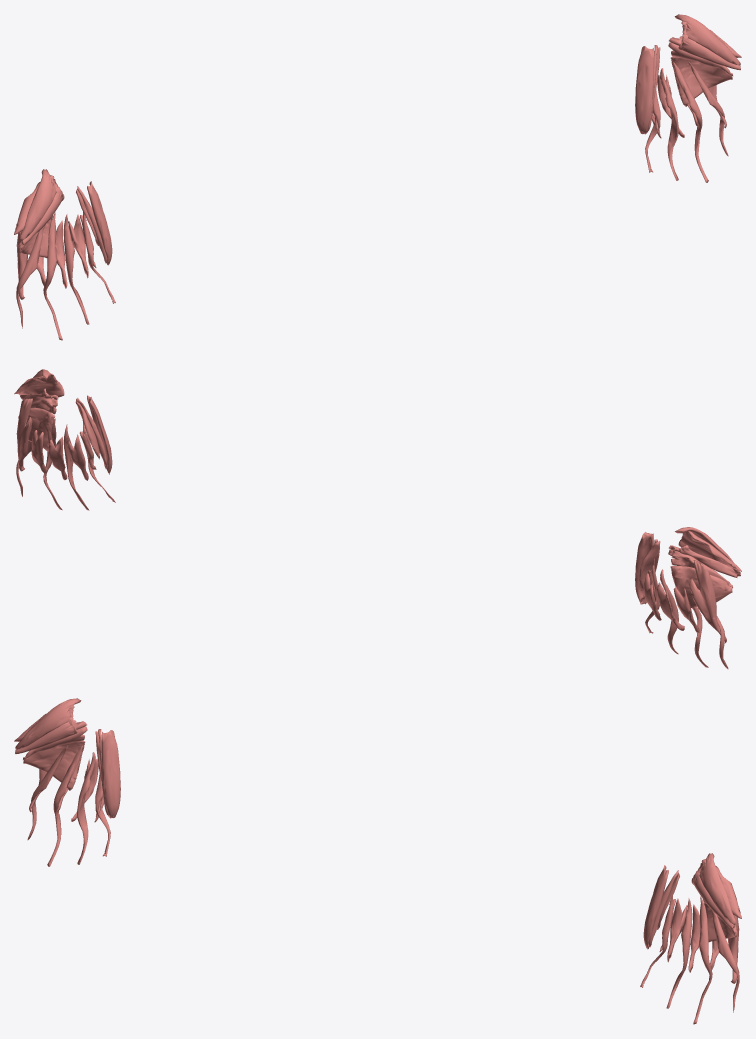
Rendered from z-anatomy-hand-muscles.glb.
The picture shows the model from 3 angles, top to bottom: view 1: azimuth 30°, elevation 25°; view 2: azimuth 150°, elevation 25°; view 3: azimuth 330°, elevation 25°; orthographic projection.
Parts seen in each view (by area): view 1: hand-muscles-lumbrical-muscles-of-hand-right__Lumbrical musc, hand-muscles-lumbrical-muscles-of-hand-left__Lumbrical muscl, hand-muscles-dorsal-interossei-muscles-of-hand-right__Dorsal, hand-muscles-abductor-digiti-minimi-of-hand-left__Abductor d, hand-muscles-transverse-head-of-adductor-pollicis-left__Tran, hand-muscles-abductor-pollicis-brevis-left__Abductor pollici, hand-muscles-abductor-pollicis-brevis-right__Abductor pollic, hand-muscles-abductor-digiti-minimi-of-hand-right__Abductor , hand-muscles-superficial-head-of-flexor-pollicis-brevis-left, hand-muscles-dorsal-interossei-muscles-of-hand-left__Dorsal ; view 2: hand-muscles-dorsal-interossei-muscles-of-hand-right__Dorsal, hand-muscles-dorsal-interossei-muscles-of-hand-left__Dorsal , hand-muscles-lumbrical-muscles-of-hand-right__Lumbrical musc, hand-muscles-lumbrical-muscles-of-hand-left__Lumbrical muscl, hand-muscles-transverse-head-of-adductor-pollicis-right__Tra, hand-muscles-deep-head-of-flexor-pollicis-brevis-right__Deep, hand-muscles-transverse-head-of-adductor-pollicis-left__Tran, hand-muscles-deep-head-of-flexor-pollicis-brevis-left__Deep , hand-muscles-abductor-digiti-minimi-of-hand-right__Abductor , hand-muscles-opponens-pollicis-muscle-right__Opponens pollic, hand-muscles-abductor-digiti-minimi-of-hand-left__Abductor d, hand-muscles-opponens-digiti-minimi-muscle-of-hand-right__Op; view 3: hand-muscles-lumbrical-muscles-of-hand-left__Lumbrical muscl, hand-muscles-lumbrical-muscles-of-hand-right__Lumbrical musc, hand-muscles-dorsal-interossei-muscles-of-hand-left__Dorsal , hand-muscles-abductor-digiti-minimi-of-hand-right__Abductor , hand-muscles-transverse-head-of-adductor-pollicis-right__Tra, hand-muscles-abductor-pollicis-brevis-right__Abductor pollic, hand-muscles-abductor-pollicis-brevis-left__Abductor pollici, hand-muscles-abductor-digiti-minimi-of-hand-left__Abductor d, hand-muscles-superficial-head-of-flexor-pollicis-brevis-righ, hand-muscles-dorsal-interossei-muscles-of-hand-right__Dorsal.
Boxes of the visible parts, bbox=[...] form: hand-muscles-lumbrical-muscles-of-hand-right__Lumbrical musc: bbox=[16, 212, 115, 340]; hand-muscles-lumbrical-muscles-of-hand-left__Lumbrical muscl: bbox=[645, 61, 728, 182]; hand-muscles-dorsal-interossei-muscles-of-hand-right__Dorsal: bbox=[16, 214, 88, 299]; hand-muscles-abductor-digiti-minimi-of-hand-left__Abductor d: bbox=[635, 46, 654, 134]; hand-muscles-transverse-head-of-adductor-pollicis-left__Tran: bbox=[670, 56, 732, 106]; hand-muscles-abductor-pollicis-brevis-left__Abductor pollici: bbox=[674, 14, 740, 65]; hand-muscles-abductor-pollicis-brevis-right__Abductor pollic: bbox=[20, 169, 56, 240]; hand-muscles-abductor-digiti-minimi-of-hand-right__Abductor : bbox=[87, 181, 112, 265]; hand-muscles-superficial-head-of-flexor-pollicis-brevis-left: bbox=[681, 38, 740, 70]; hand-muscles-dorsal-interossei-muscles-of-hand-left__Dorsal : bbox=[651, 73, 726, 138]; hand-muscles-dorsal-interossei-muscles-of-hand-right__Dorsal: bbox=[643, 560, 726, 643]; hand-muscles-dorsal-interossei-muscles-of-hand-left__Dorsal : bbox=[16, 398, 88, 480]; hand-muscles-lumbrical-muscles-of-hand-right__Lumbrical musc: bbox=[645, 558, 728, 669]; hand-muscles-lumbrical-muscles-of-hand-left__Lumbrical muscl: bbox=[16, 418, 115, 510]; hand-muscles-transverse-head-of-adductor-pollicis-right__Tra: bbox=[670, 566, 732, 607]; hand-muscles-deep-head-of-flexor-pollicis-brevis-right__Deep: bbox=[678, 527, 741, 571]; hand-muscles-transverse-head-of-adductor-pollicis-left__Tran: bbox=[18, 407, 55, 452]; hand-muscles-deep-head-of-flexor-pollicis-brevis-left__Deep : bbox=[14, 373, 64, 397]; hand-muscles-abductor-digiti-minimi-of-hand-right__Abductor : bbox=[635, 532, 654, 604]; hand-muscles-opponens-pollicis-muscle-right__Opponens pollic: bbox=[669, 545, 738, 577]; hand-muscles-abductor-digiti-minimi-of-hand-left__Abductor d: bbox=[87, 395, 112, 474]; hand-muscles-opponens-digiti-minimi-muscle-of-hand-right__Op: bbox=[639, 541, 660, 591]; hand-muscles-lumbrical-muscles-of-hand-left__Lumbrical muscl: bbox=[640, 896, 739, 1024]; hand-muscles-lumbrical-muscles-of-hand-right__Lumbrical musc: bbox=[27, 745, 110, 866]; hand-muscles-dorsal-interossei-muscles-of-hand-left__Dorsal : bbox=[667, 898, 739, 983]; hand-muscles-abductor-digiti-minimi-of-hand-right__Abductor : bbox=[101, 730, 120, 818]; hand-muscles-transverse-head-of-adductor-pollicis-right__Tra: bbox=[23, 740, 85, 790]; hand-muscles-abductor-pollicis-brevis-right__Abductor pollic: bbox=[15, 698, 81, 749]; hand-muscles-abductor-pollicis-brevis-left__Abductor pollici: bbox=[699, 853, 735, 924]; hand-muscles-abductor-digiti-minimi-of-hand-left__Abductor d: bbox=[643, 865, 668, 949]; hand-muscles-superficial-head-of-flexor-pollicis-brevis-righ: bbox=[15, 722, 74, 754]; hand-muscles-dorsal-interossei-muscles-of-hand-right__Dorsal: bbox=[29, 757, 104, 822].
Bounding box in the file's own units: 0.6318 × 0.1273 × 0.04.
